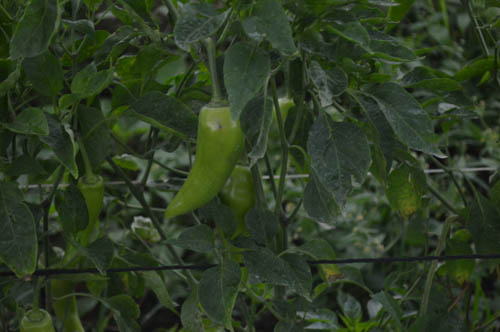ChiliPepper: (161, 107, 239, 218), (75, 178, 108, 256), (45, 276, 84, 325), (229, 166, 255, 214)
